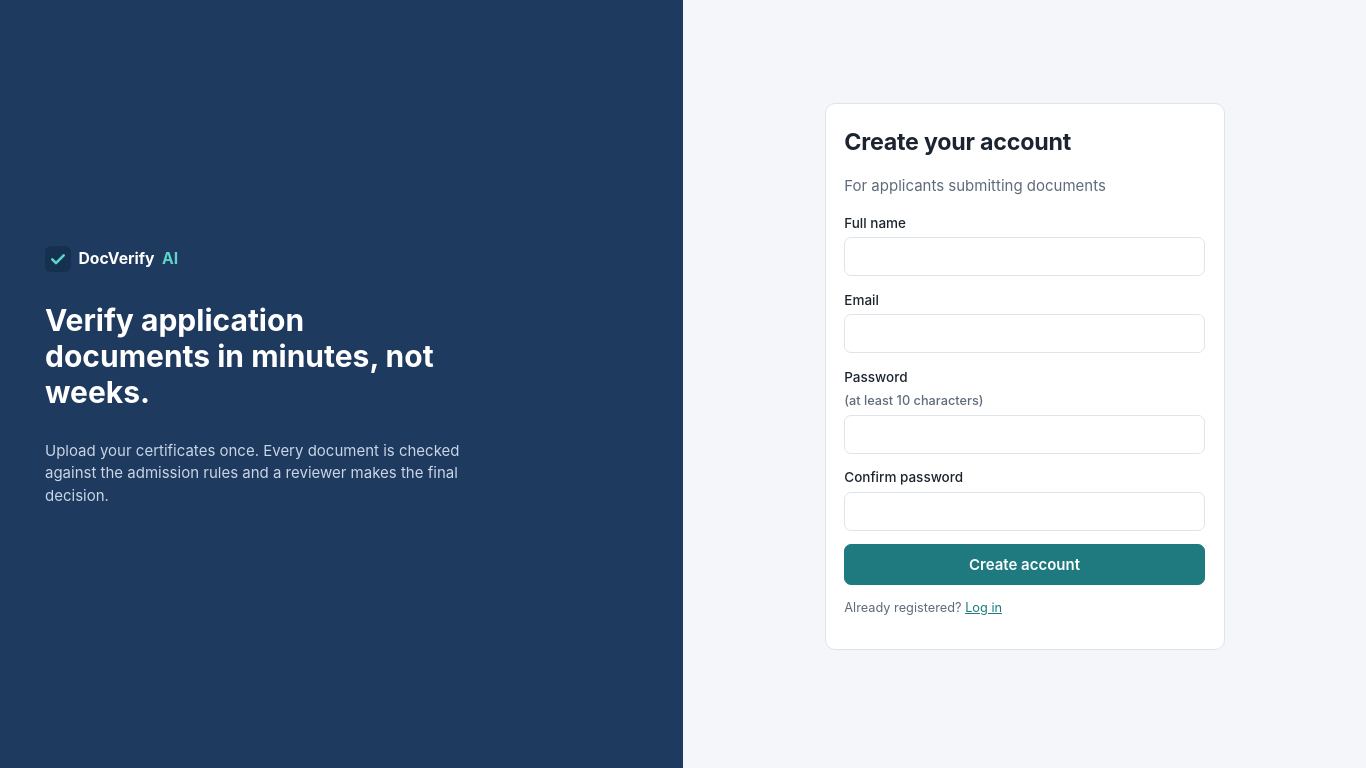
Test case: RegisterPage › checks the password length before calling the API
The width and height of the screenshot is (1366, 768).
Type "Arjun Mehta" into the field labelled "Full name" at (1025, 257), box x1=844 y1=237 x2=1205 y2=276
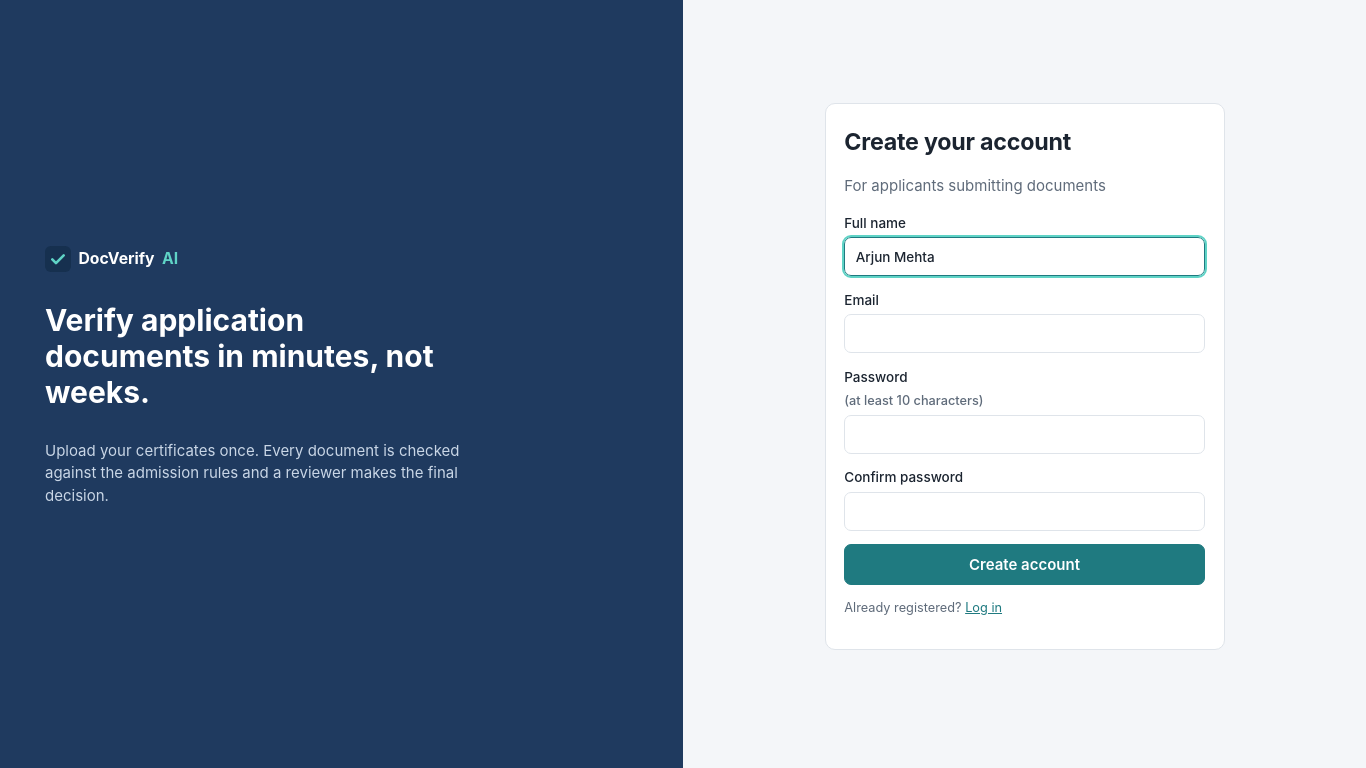
Type "arjun@example.com" into the field labelled "Email" at (1025, 334), box x1=844 y1=314 x2=1205 y2=353
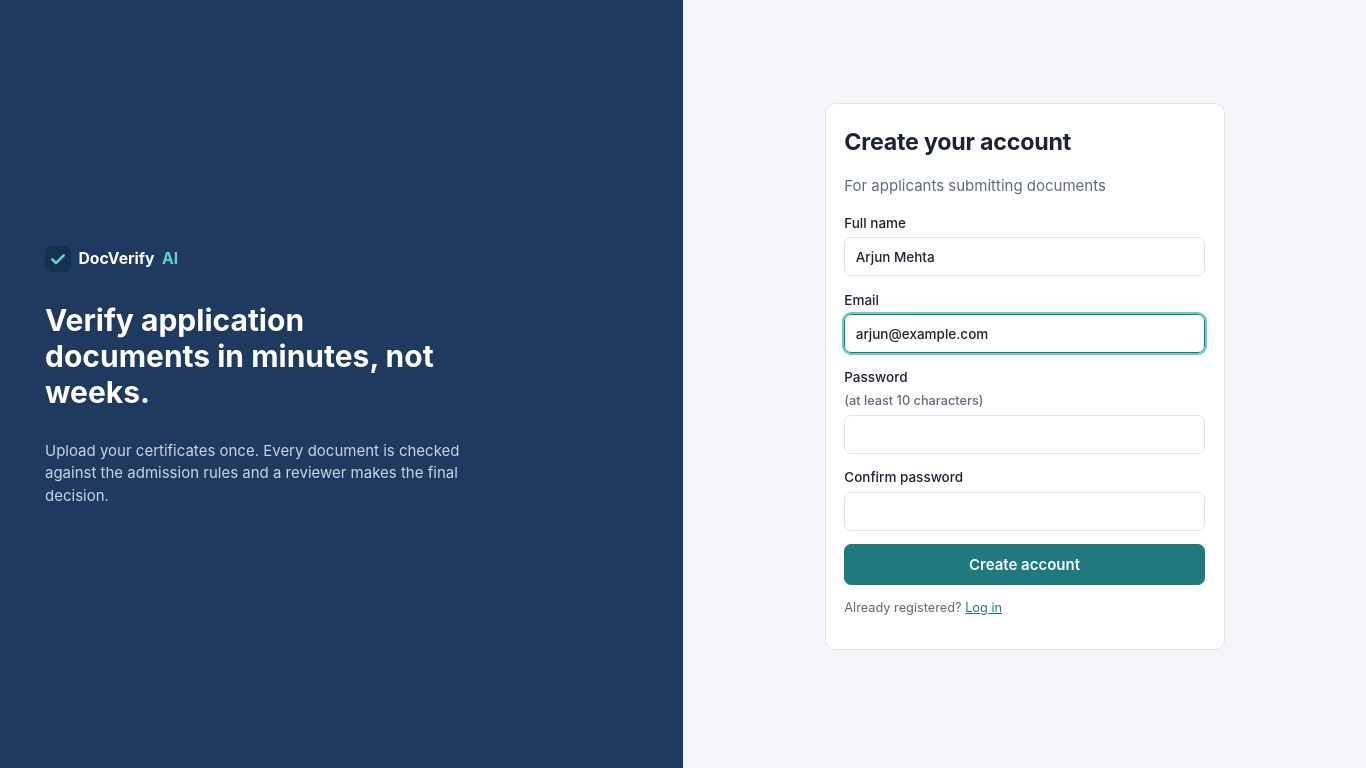
Type "short" into the password field labelled "Password (at least 10 characters)" at (1025, 434), box x1=844 y1=415 x2=1205 y2=454
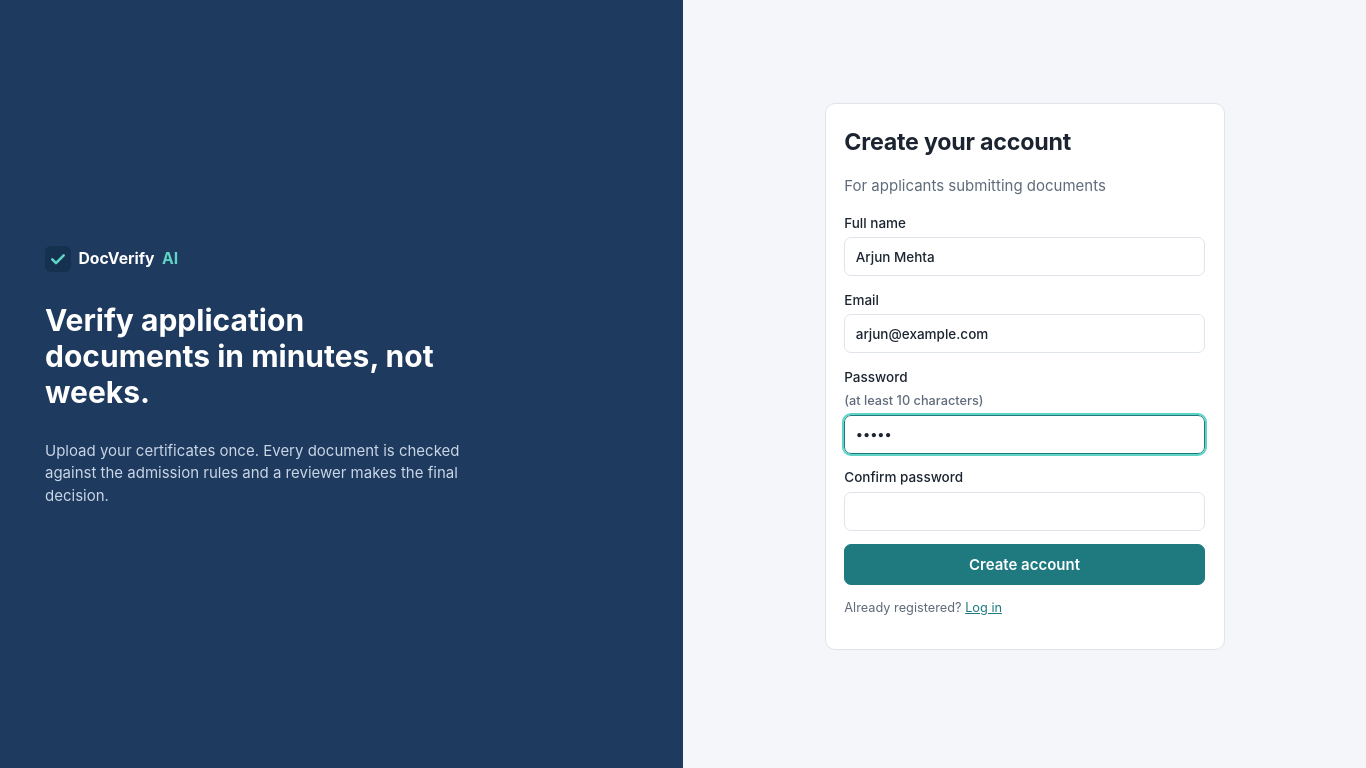
Type "short" into the password field labelled "Confirm password" at (1025, 512), box x1=844 y1=492 x2=1205 y2=531
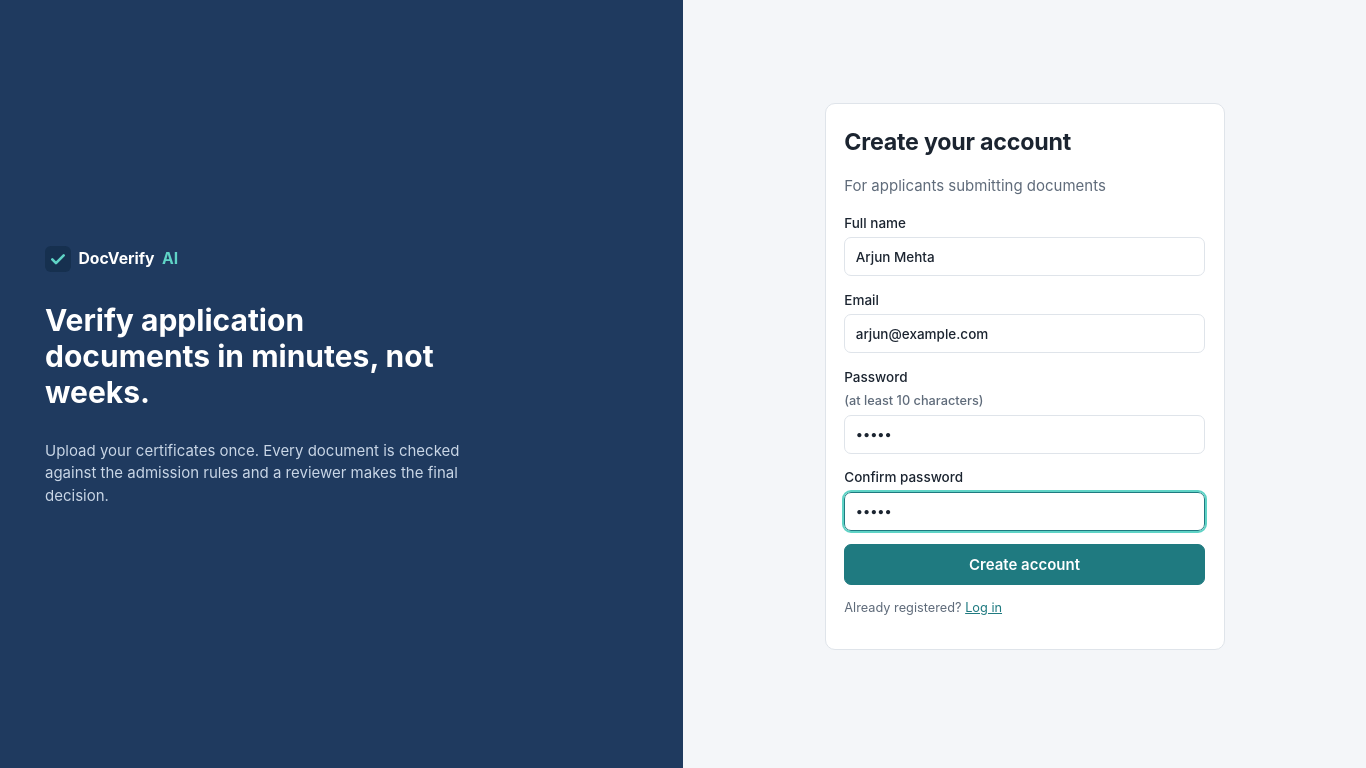
Click the button "Create account" at (1025, 565), box x1=844 y1=544 x2=1205 y2=585
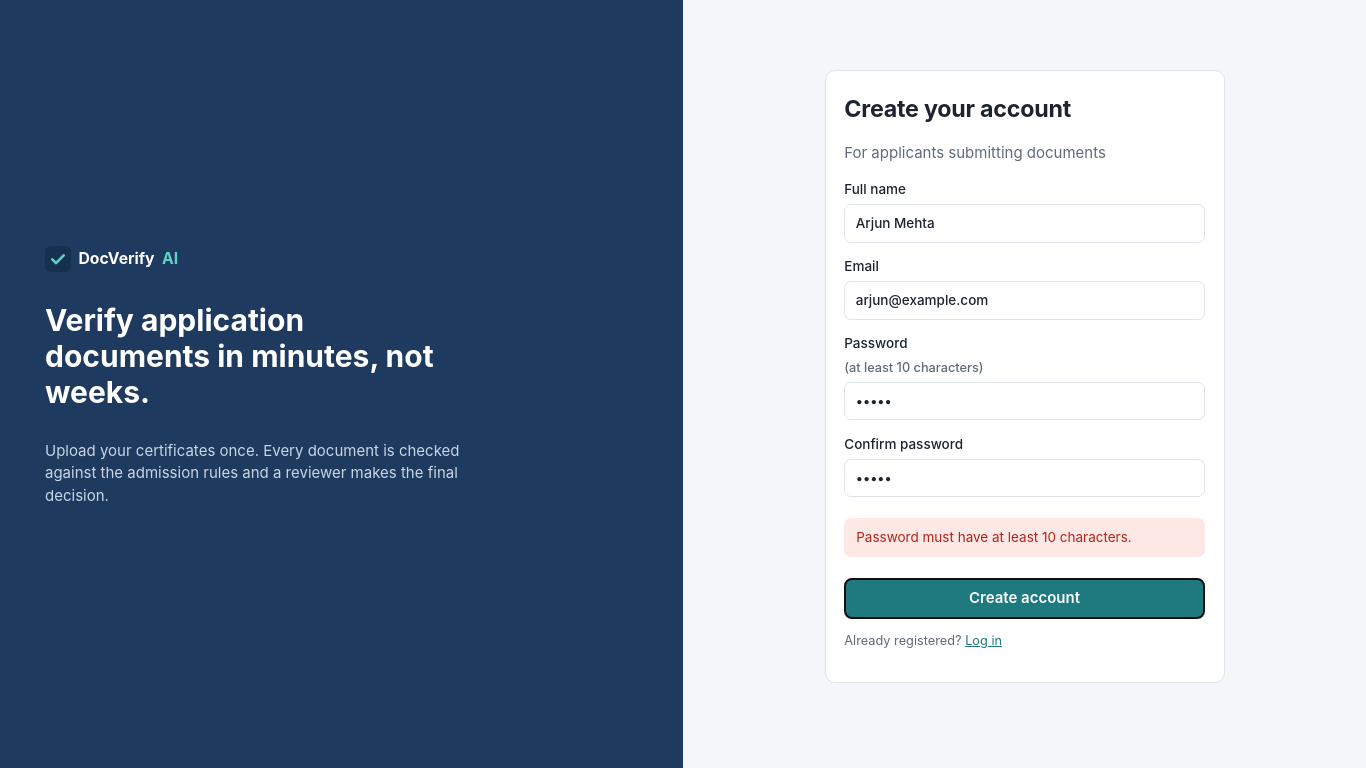
Expected: the message shows "at least 10 characters", x1=856 y1=529 x2=1132 y2=545
